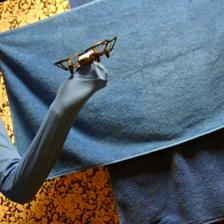drone: (53, 38, 118, 73)
